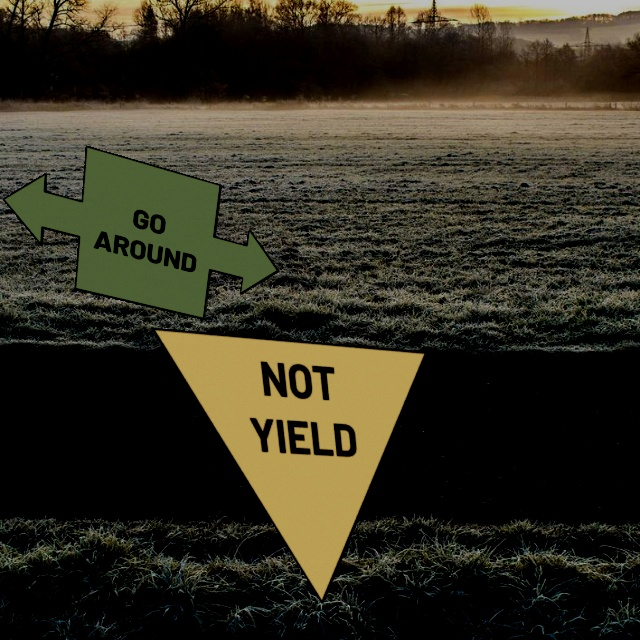GO_AROUND: (2, 145, 279, 320)
NOT_YIELD: (151, 327, 428, 604)
